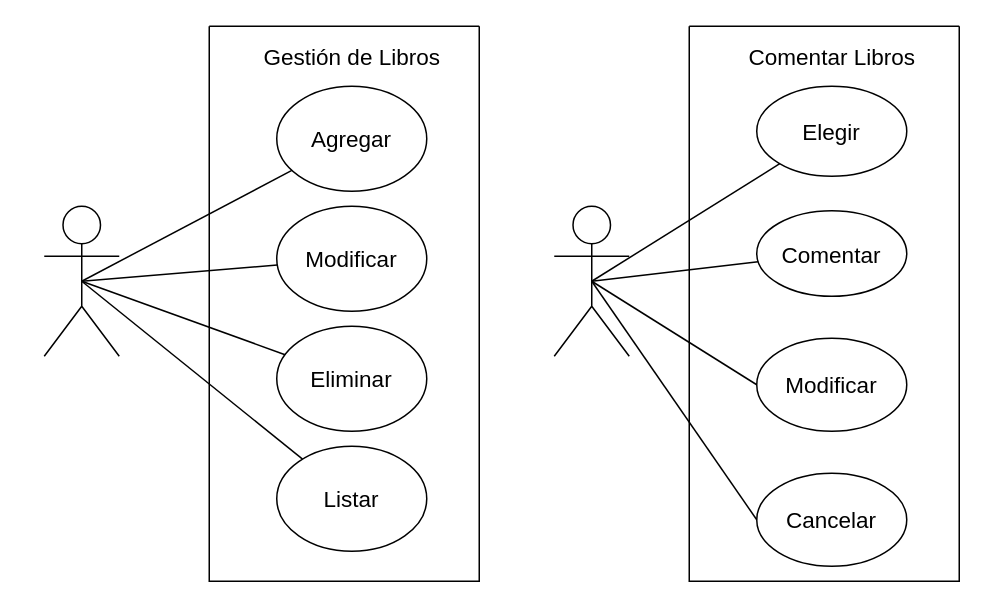
The diagram is 986 pixels wide and 608 high, and some of its shapes have lost their labels. The centre of each missing label's shape, as x and y in pixels:
"Administrador" goes at [81,280].
"Lector" goes at [591,280].
